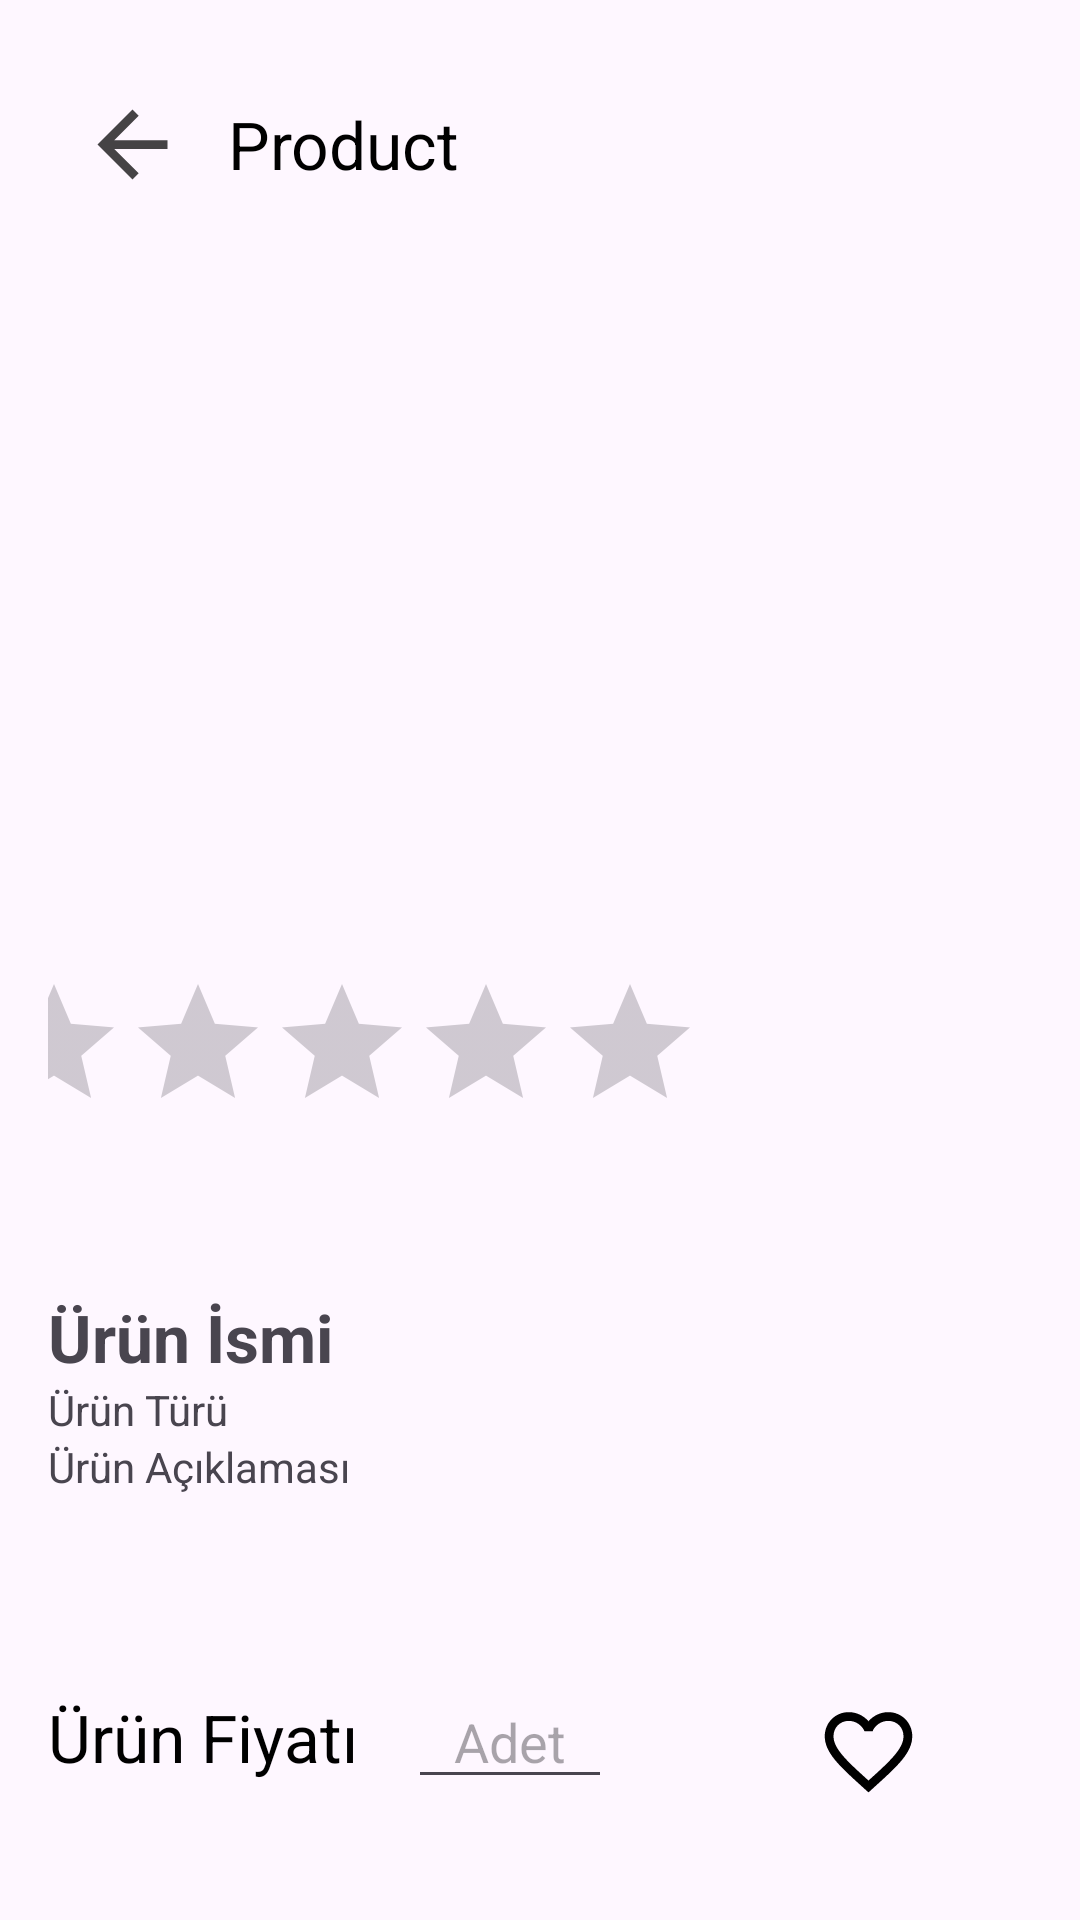

Point at icon controls on the screen. Image size 1080w x 1920h, points as (x,y).
Favori Butonu: (868,1752)
